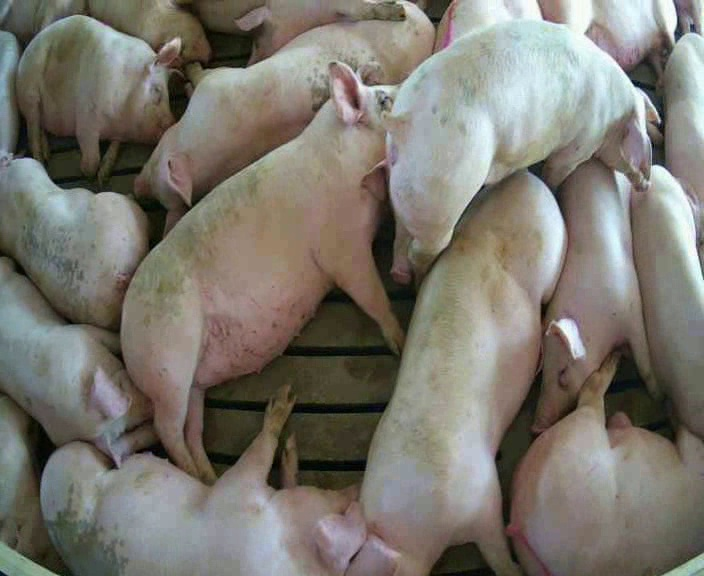pig: (121, 63, 403, 482), (347, 171, 565, 573), (386, 21, 660, 280), (136, 3, 432, 230), (41, 386, 365, 574), (507, 354, 703, 574), (534, 159, 656, 431), (16, 15, 183, 183), (633, 166, 703, 437), (539, 2, 676, 77), (664, 33, 703, 264), (88, 1, 210, 66)
